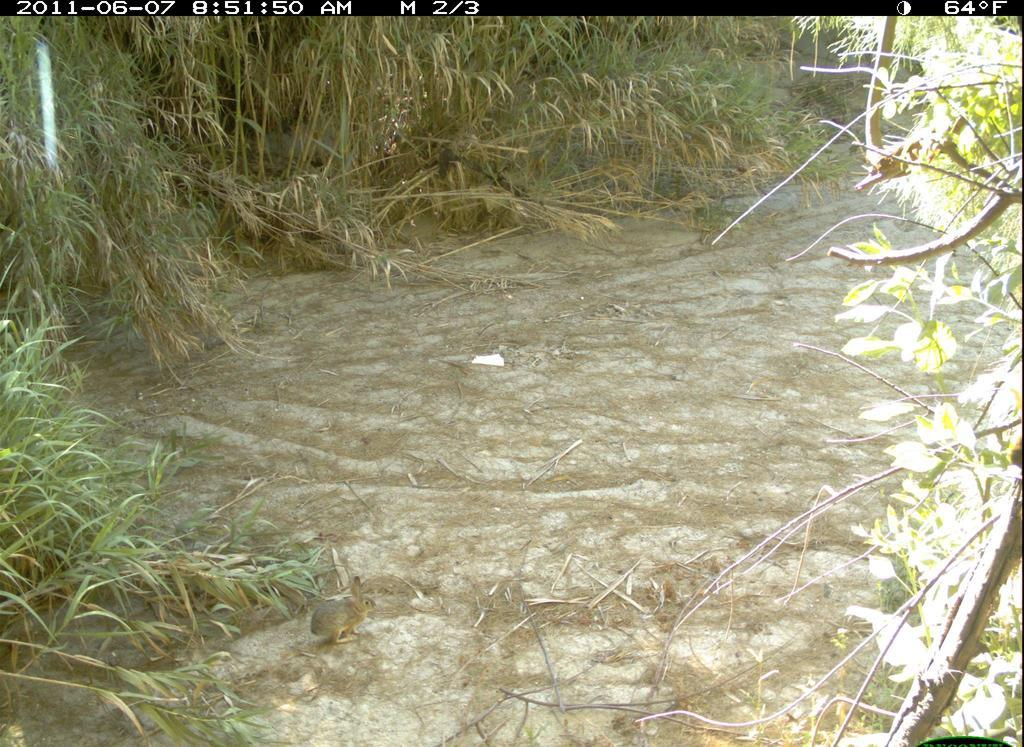rabbit: (301, 575, 382, 651)
